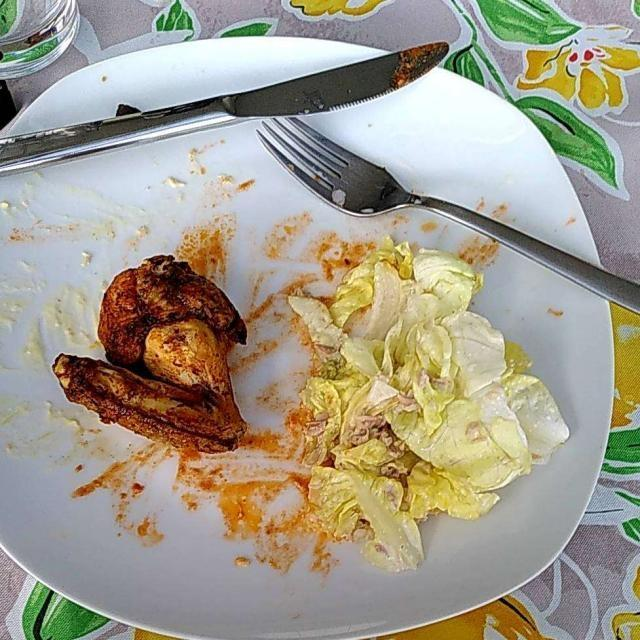chicken: (55, 248, 255, 472)
salad: (302, 248, 557, 561)
